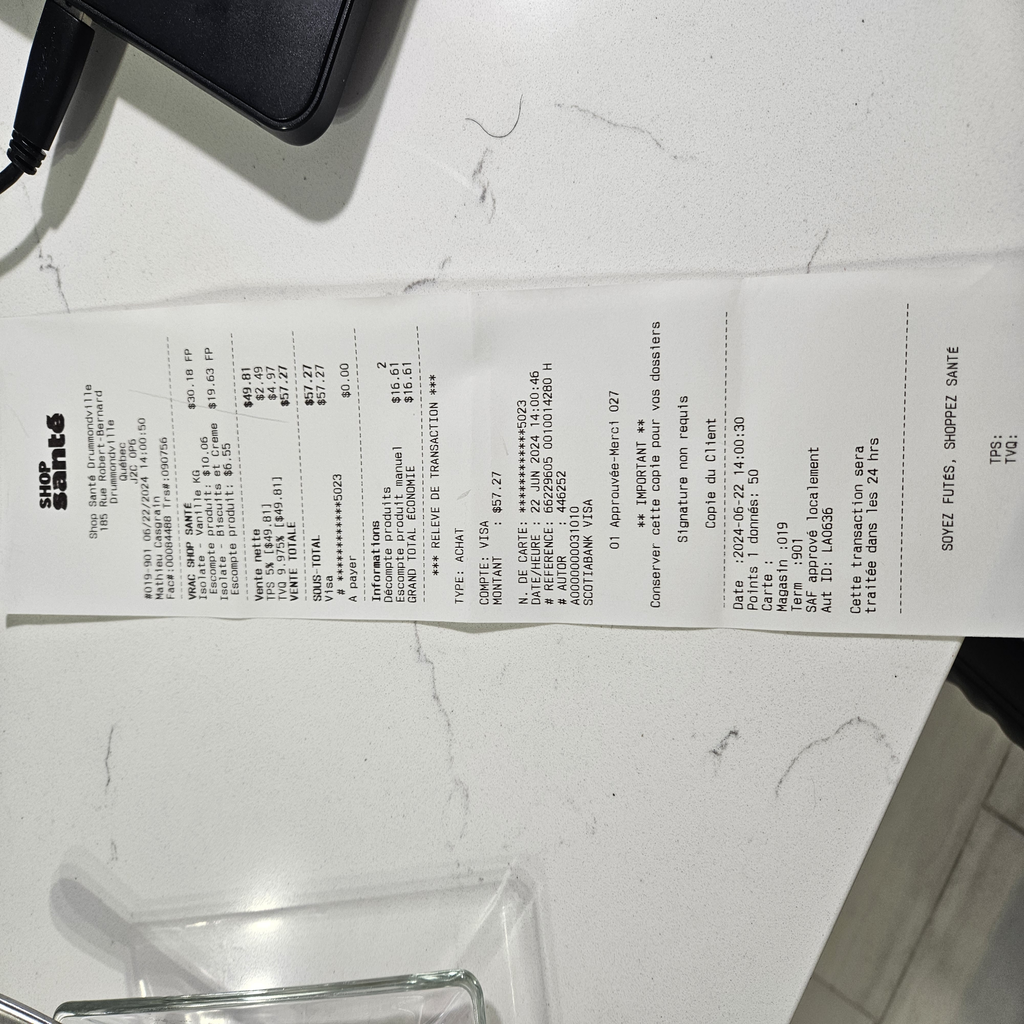recipt: (4, 246, 1022, 636)
